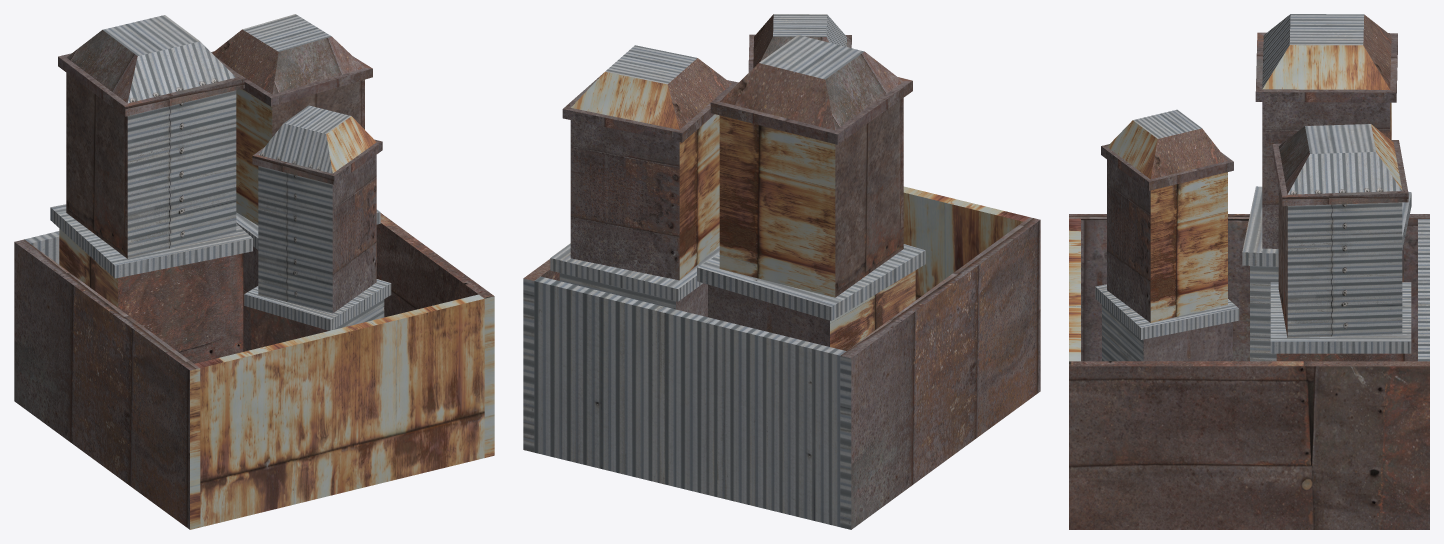
The model's file is SettlementLevel3.fbx.
The picture shows the model from 3 angles, left to right: view 1: azimuth 30°, elevation 25°; view 2: azimuth 150°, elevation 25°; view 3: azimuth 270°, elevation 25°; orthographic projection. The views are drawn at different scales.
Parts seen in each view (by area): view 1: Level2Settlement; view 2: Level2Settlement; view 3: Level2Settlement.
Boxes of the visible parts, x1,y1,x2,y2 form: Level2Settlement: (14,14,494,529); Level2Settlement: (523,14,1040,529); Level2Settlement: (1069,14,1429,529).
Size of the model in its own units: 79.2 by 94.72 by 79.2.
12 materials, 12 textured.
